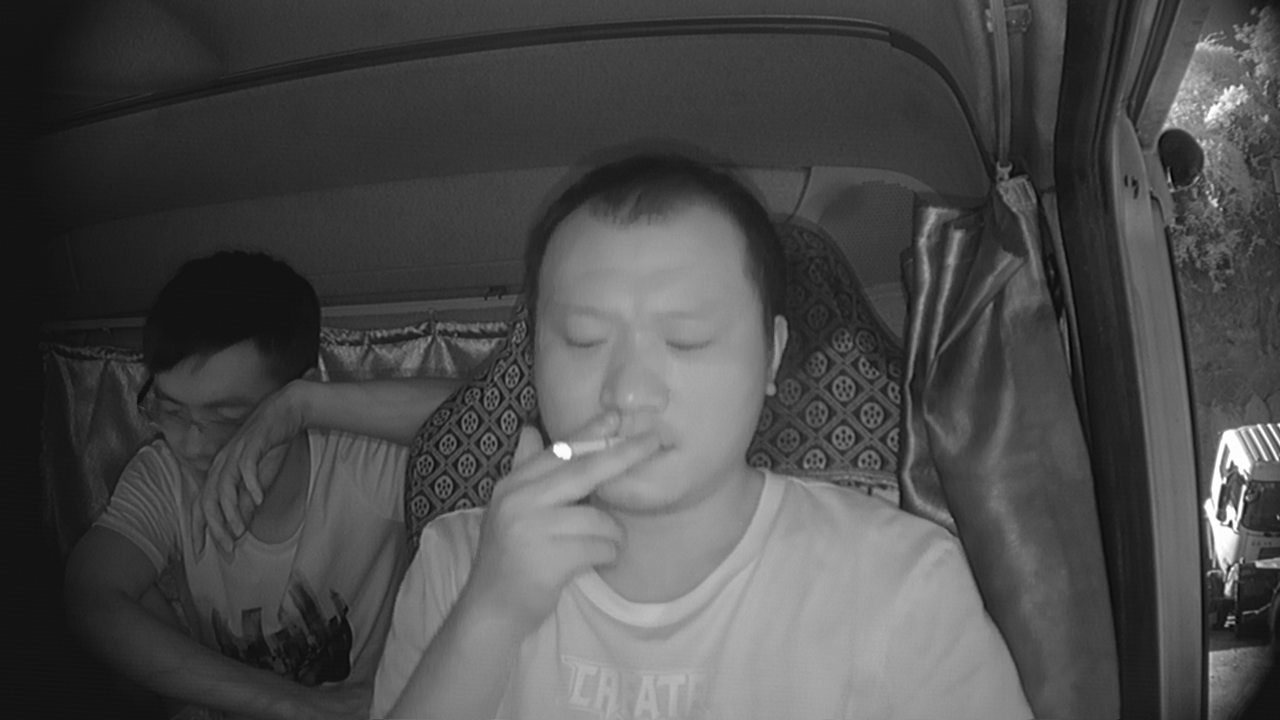hand: (507, 413, 658, 574)
